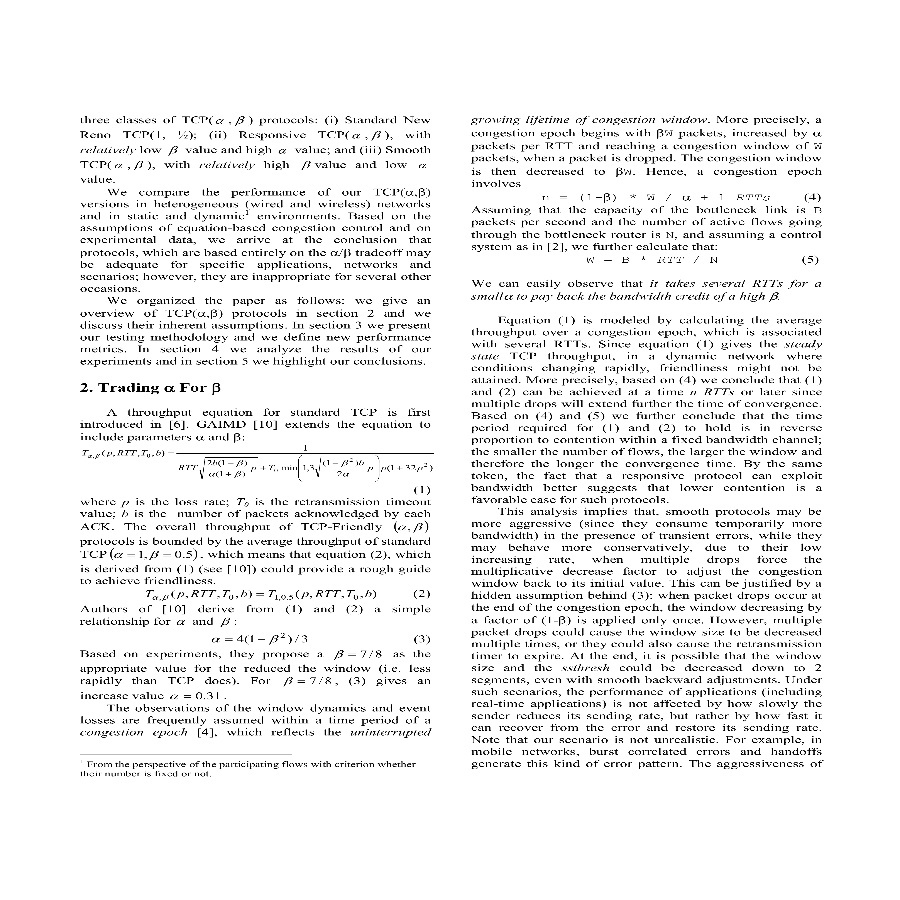eq: (82, 445, 434, 481), (145, 587, 380, 603), (537, 190, 780, 203), (582, 254, 722, 267), (207, 631, 311, 647)
